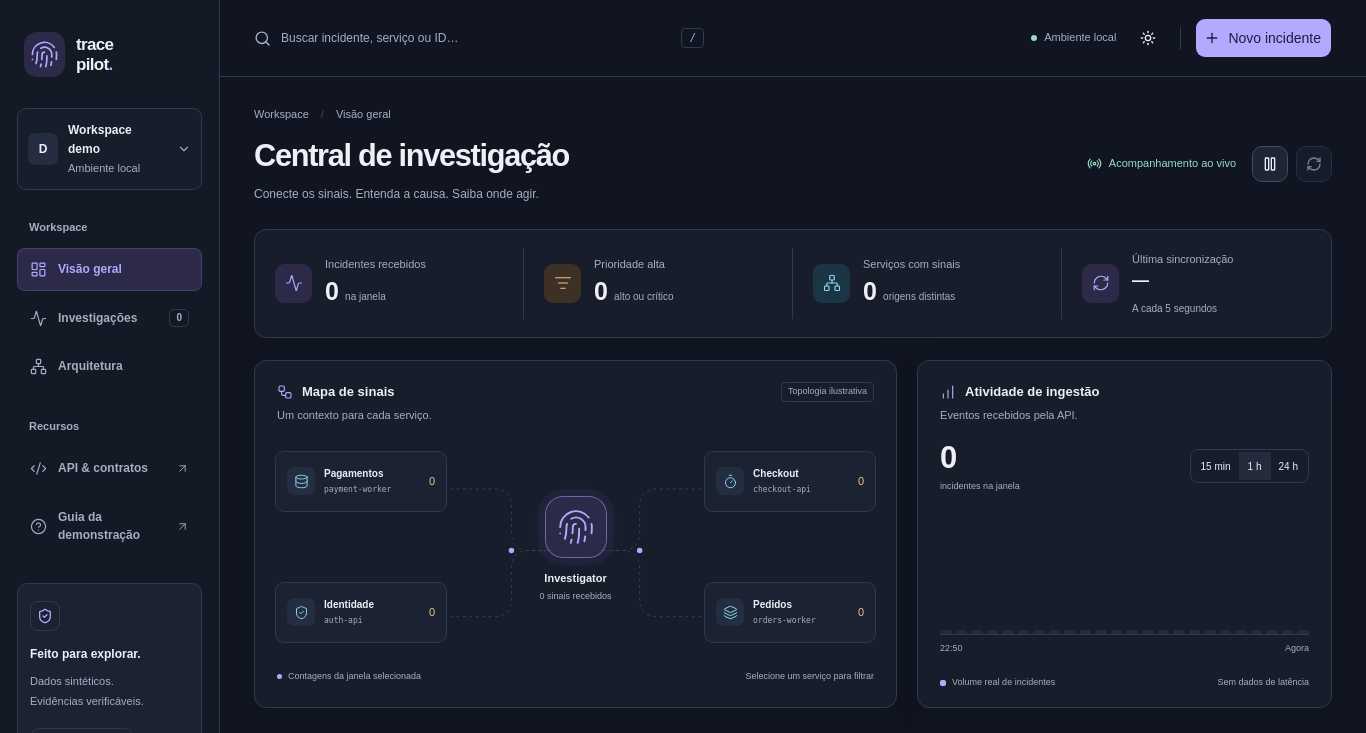
investigation workspace › offers Leve, Médio and Alto incidents with a recovered low-severity scenario
Click the button "Novo incidente": [1264, 38] box [1195, 18, 1332, 58]
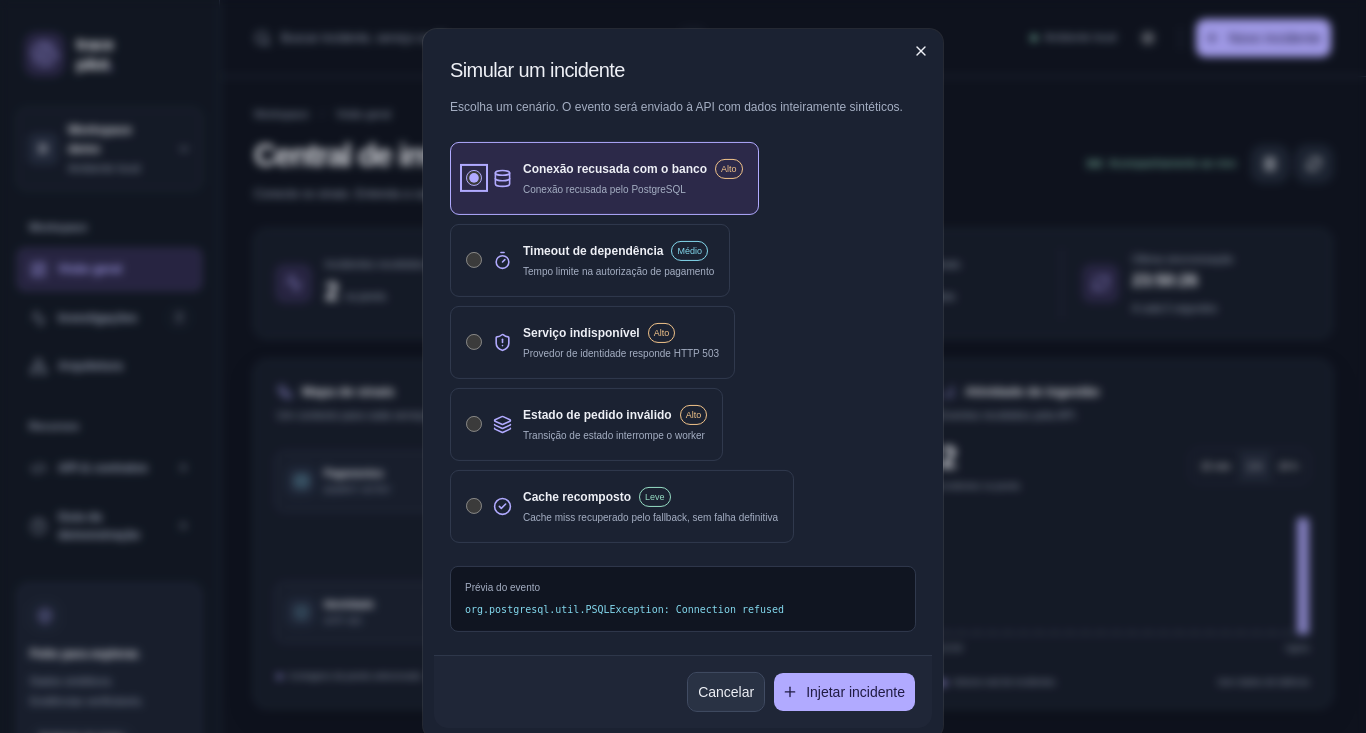
Check: the radio button labelled "Cache recomposto" is shown, box [466, 498, 482, 514]
Check: the icon "Leve" is shown, box [639, 487, 670, 507]
